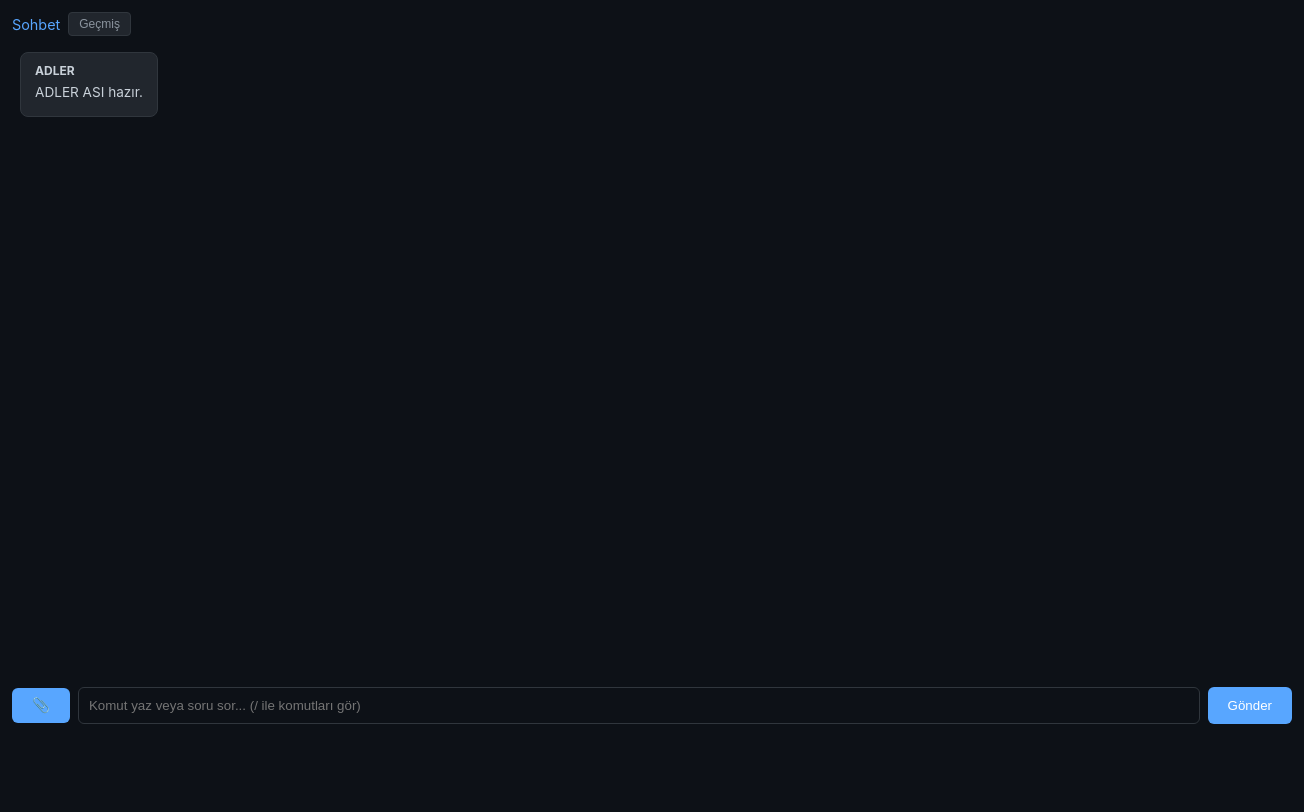
Test: ChatPanel › toggles history visibility on button click
Click the button "Geçmiş": (100, 24) [68, 12, 131, 36]
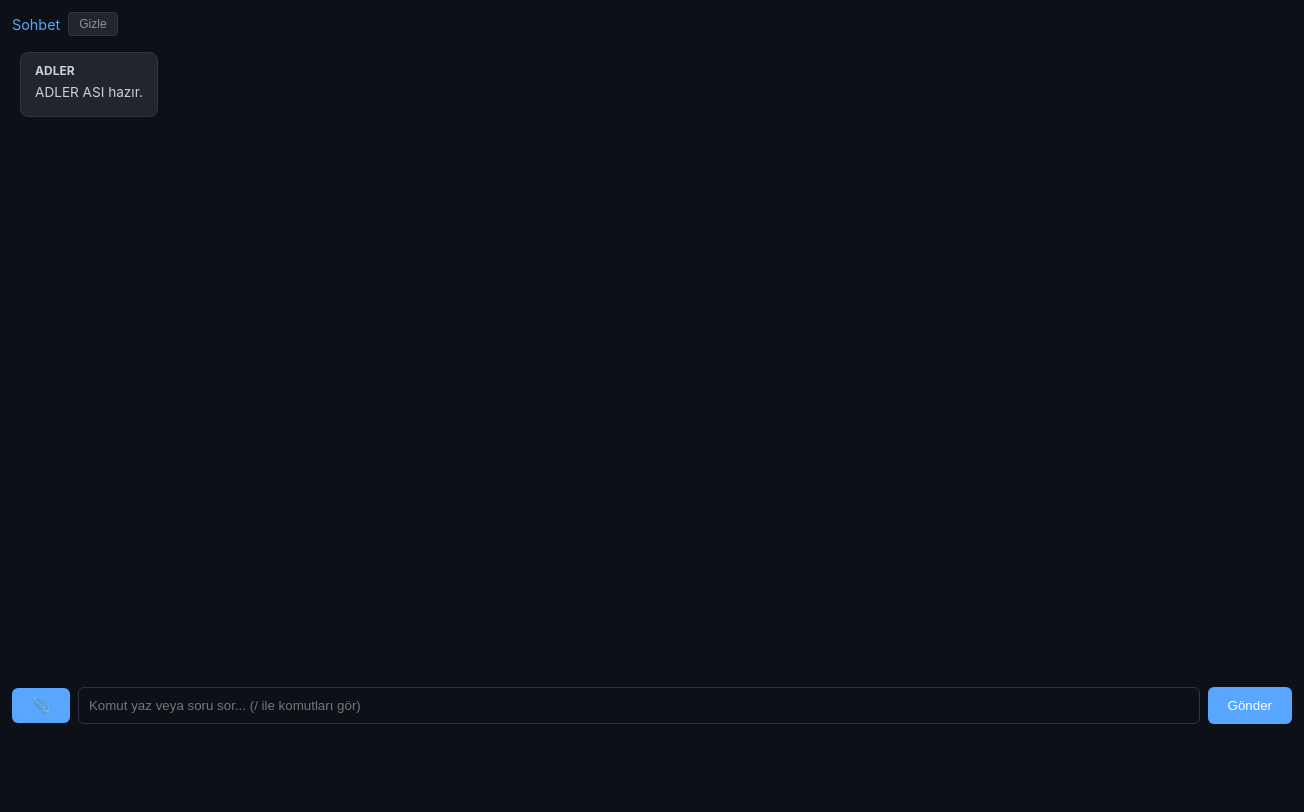
Now the button "Gizle" is shown, box [68, 12, 118, 36]
